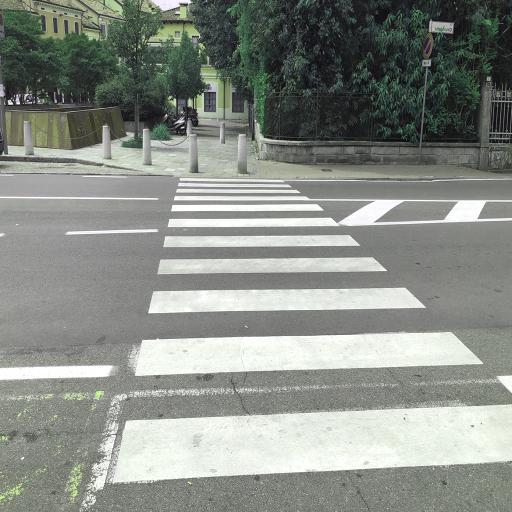crosswalk: (108, 330, 511, 494), (143, 250, 430, 316), (162, 201, 340, 228), (176, 176, 294, 188)
